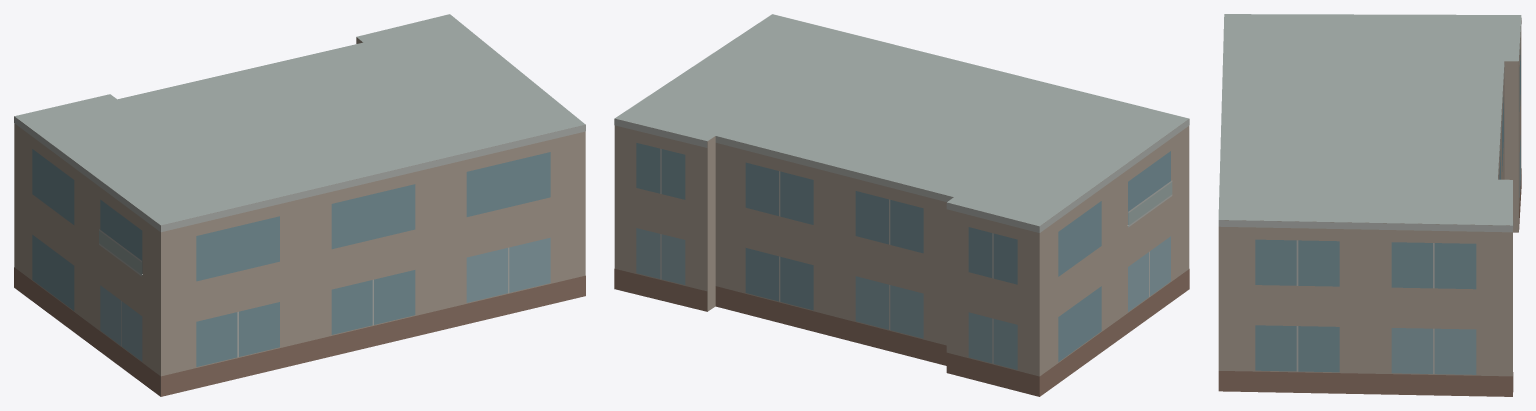
The model's file is survey-upis-32940169.glb.
The picture shows the model from 3 angles, left to right: view 1: azimuth 30°, elevation 25°; view 2: azimuth 150°, elevation 25°; view 3: azimuth 270°, elevation 25°; orthographic projection.
Parts seen in each view (by area): view 1: survey-upis-32940169.tmp; view 2: survey-upis-32940169.tmp; view 3: survey-upis-32940169.tmp.
Boxes of the visible parts, box(x1,y1,x2,y2) form: survey-upis-32940169.tmp: box(14, 14, 585, 396); survey-upis-32940169.tmp: box(614, 14, 1189, 396); survey-upis-32940169.tmp: box(1218, 14, 1521, 396).
Size of the model in its own units: 16.18 by 6.1 by 9.78.
